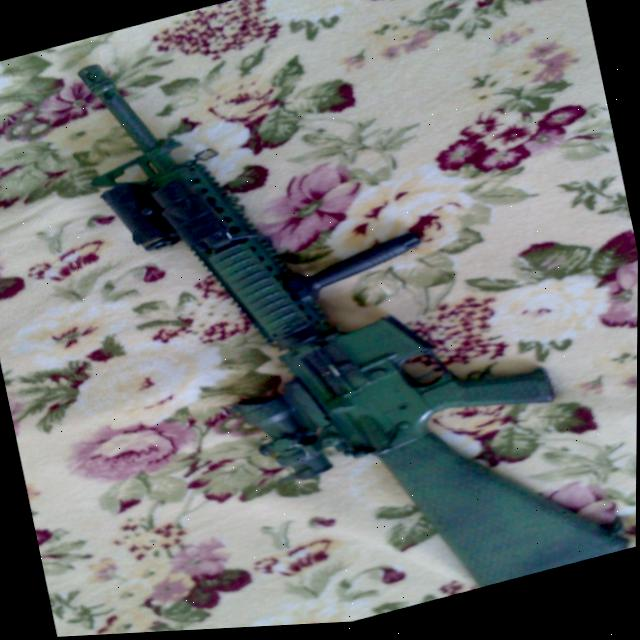firearm: (60, 0, 629, 637)
